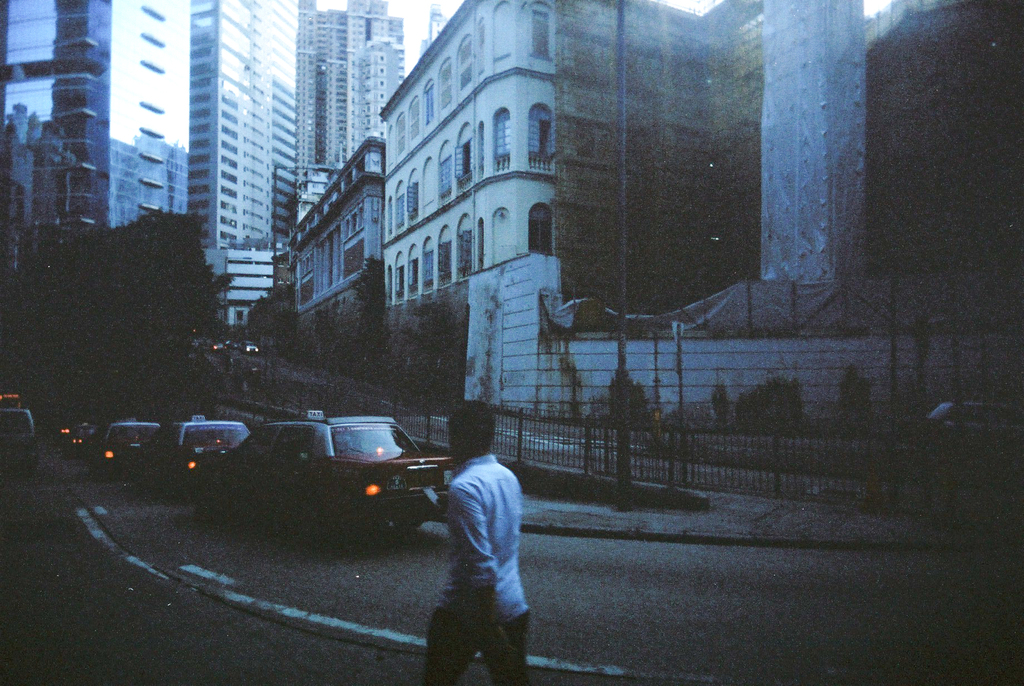car: (183, 406, 461, 547), (129, 402, 268, 496), (91, 412, 165, 475), (1, 392, 50, 477)
